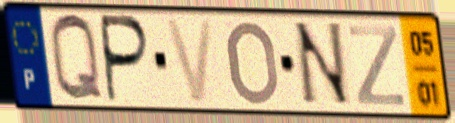N: (290, 20, 355, 109)
O: (225, 17, 282, 108)
P: (99, 12, 153, 107)
Q: (46, 11, 107, 106)
V: (162, 15, 216, 106)
Z: (347, 23, 407, 109)
